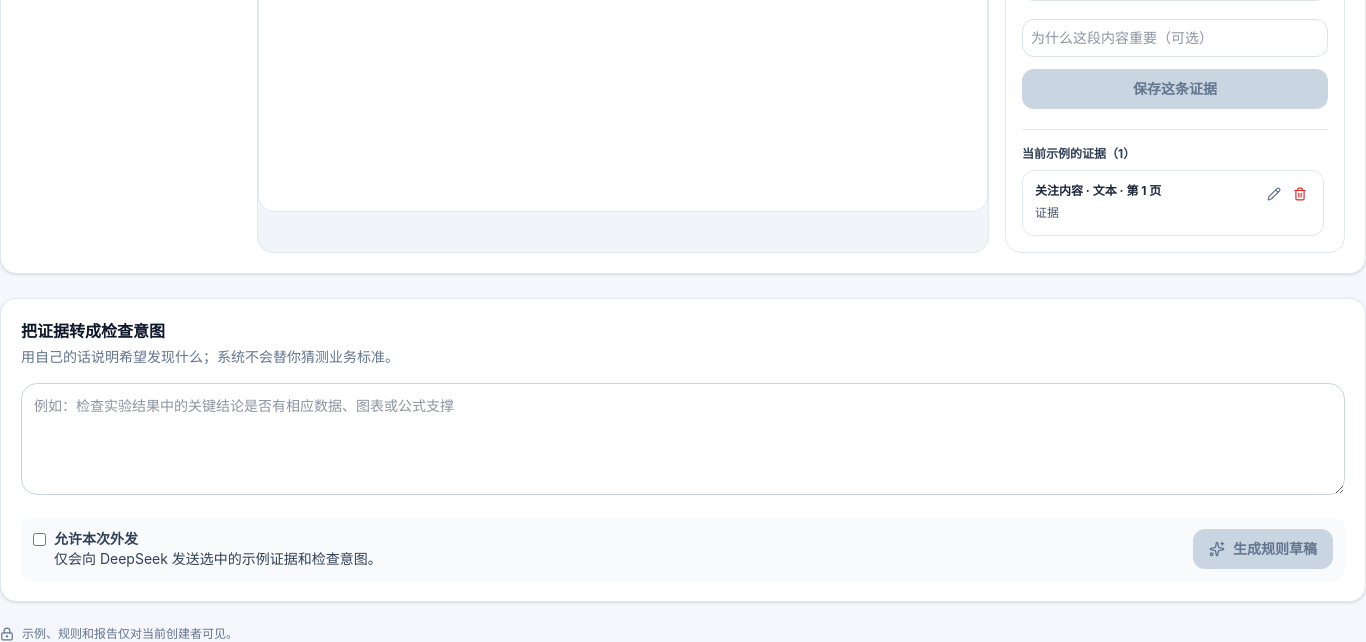
Scenario: example rule authoring UI › requires explicit consent and presents model failure clearly
The width and height of the screenshot is (1366, 642).
(page scrolled)
Type "检查结论" into the text box with placeholder "例如：检查实验结果中的关键结论是否有相应数据、图表或公式支撑" at (683, 439), box [21,383,1345,495]
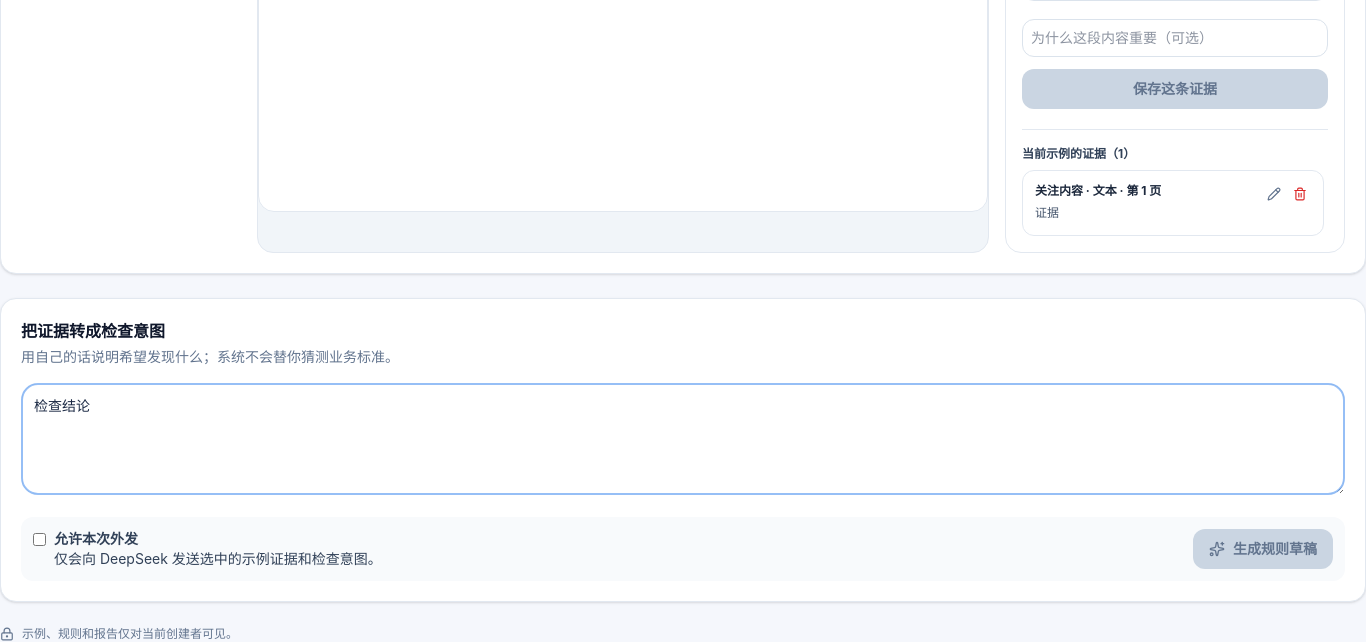
Check: the button "生成规则草稿" is disabled, box [1193,529,1333,569]
Click the checkbox labelled "允许本次外发" at (40, 540), box [33,533,46,546]
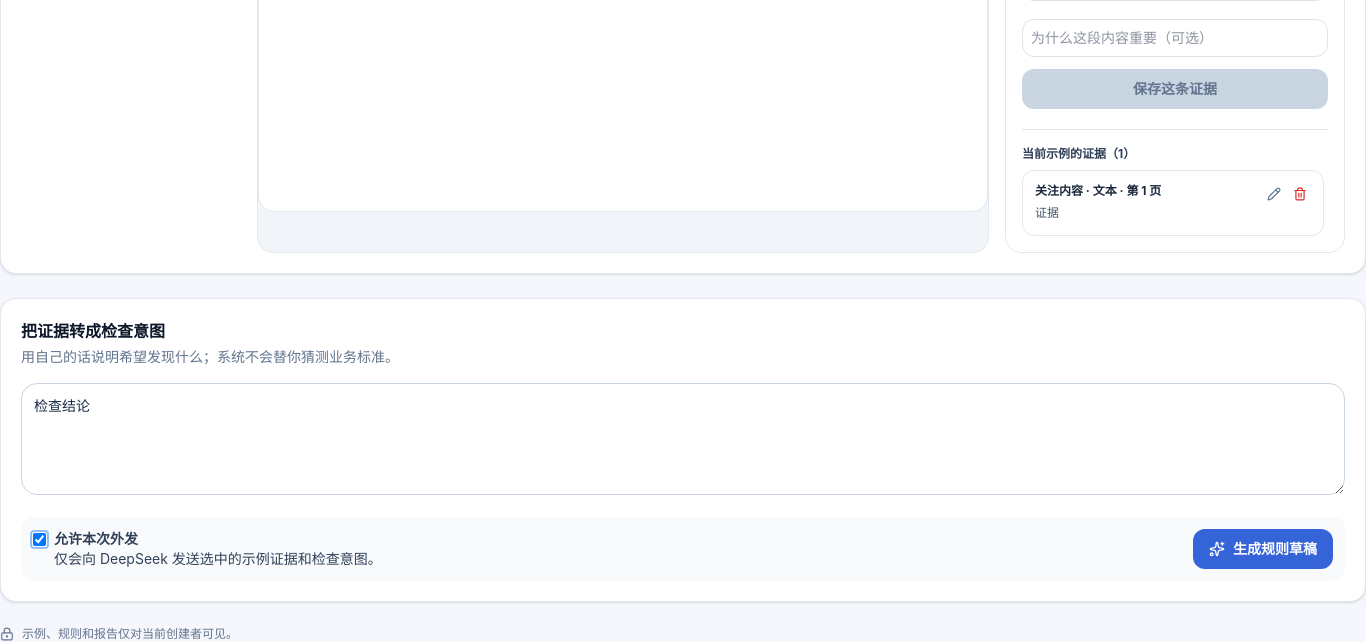
Click the button "生成规则草稿" at (1263, 549), box [1193,529,1333,569]
(page scrolled)
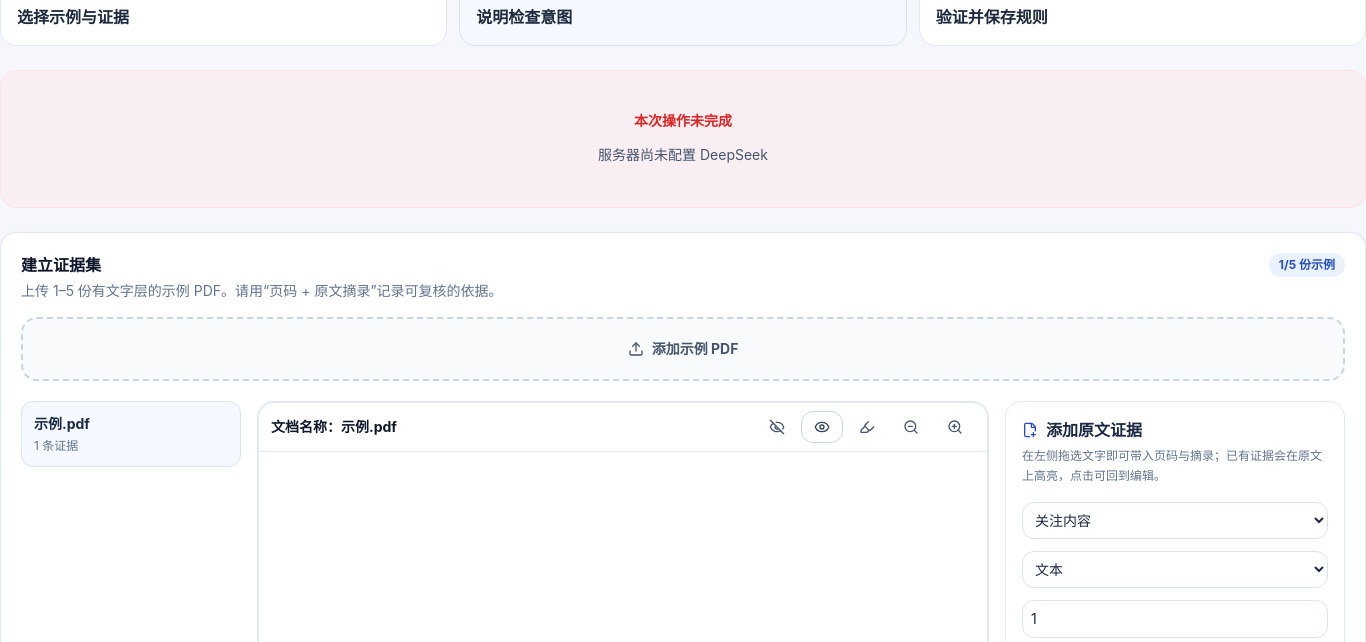
Check: the text "服务器尚未配置 DeepSeek" is shown, box [598,143,768,167]
